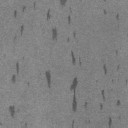red iron: (14, 0, 121, 128), (102, 50, 120, 74), (103, 8, 119, 19), (11, 62, 19, 84), (8, 106, 16, 118)
